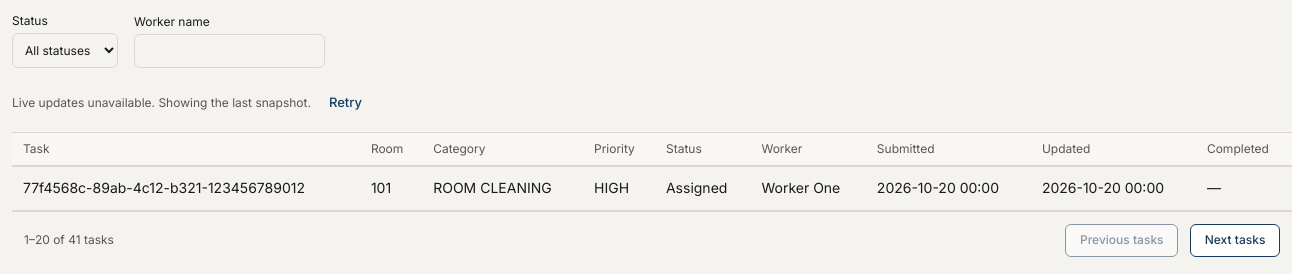
Test case: DDP-028 task queue › AC2: retains status, worker and page during event and reconnect refreshes
Expected: the text "101" is shown, [360, 166, 422, 210]
Select "Assigned" in the dropdown labelled "Status": (65, 50) [12, 33, 118, 68]
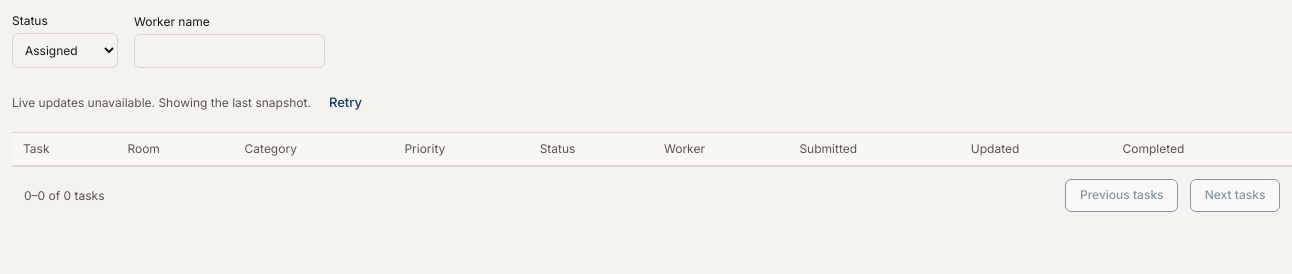
In the field labelled "Worker name": (230, 51) [134, 34, 325, 68], type "Worker One"
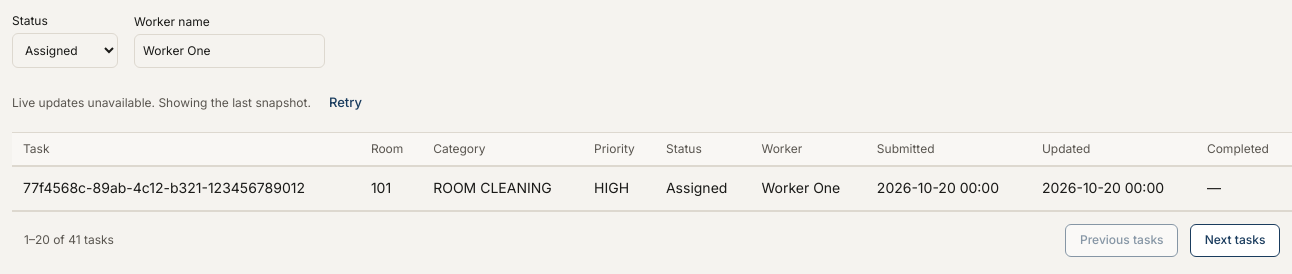
Result: the text "101" is shown at [360, 166, 422, 210]
Click the button "Next tasks": (1235, 240) [1190, 224, 1280, 257]
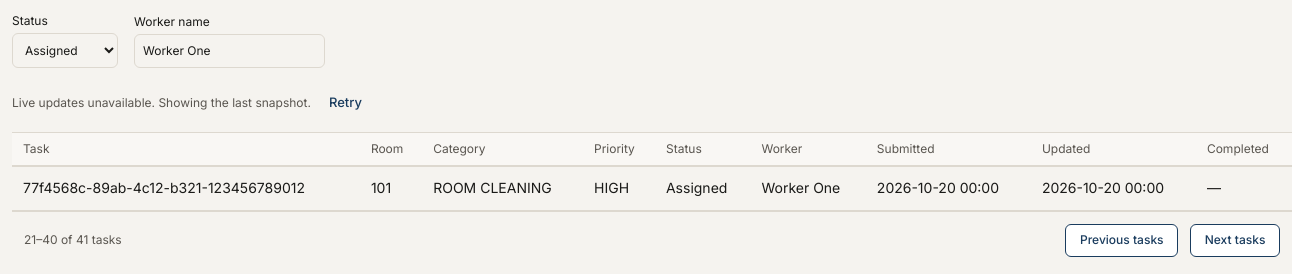
Result: the text "101" is shown at [360, 166, 422, 210]
Result: the text "21–40 of 41 tasks" is shown at [24, 231, 122, 249]
Click the button "Previous tasks": (1122, 240) [1065, 224, 1178, 257]
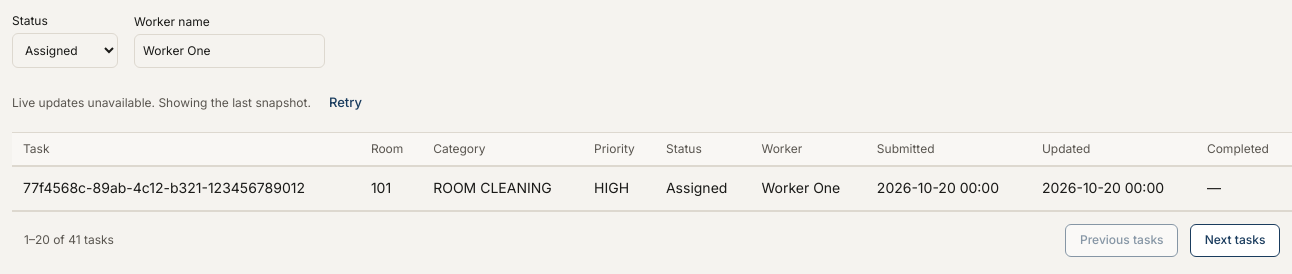
Result: the text "1–20 of 41 tasks" is shown at [24, 231, 114, 249]
